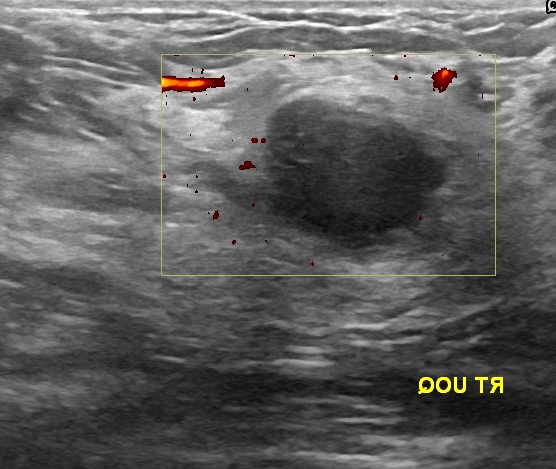Benign: (263, 95, 429, 241)
